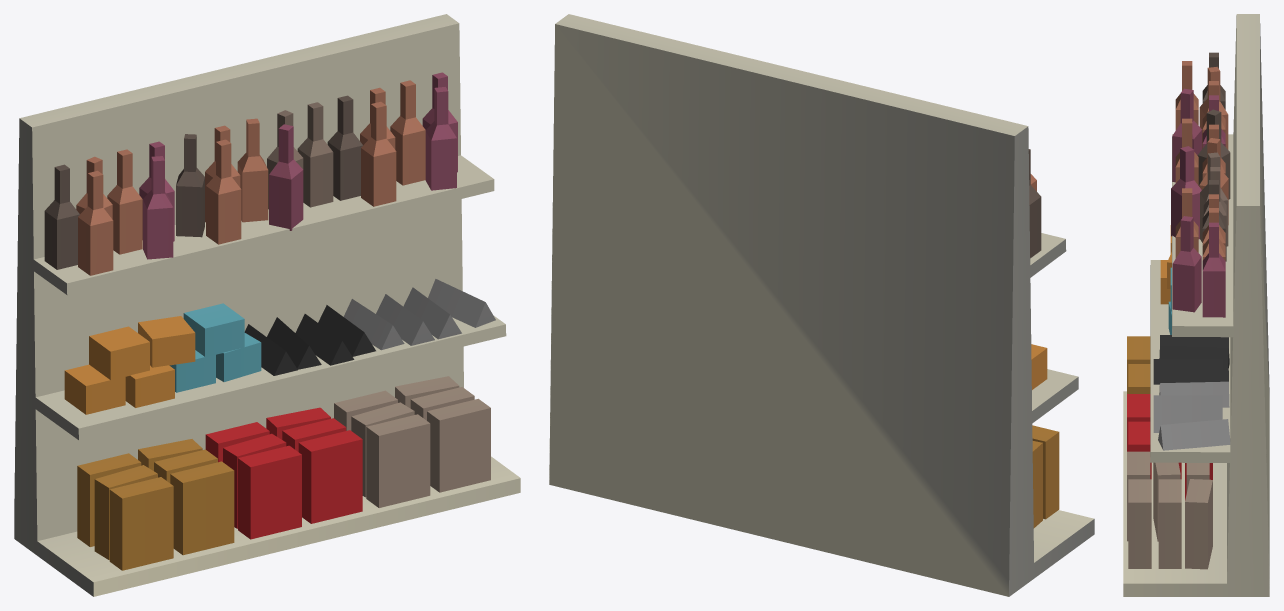
File: B03_etale_04.fbx
3 renders of one model, left to right at view 1: azimuth 30°, elevation 25°; view 2: azimuth 150°, elevation 25°; view 3: azimuth 270°, elevation 25°, orthographic. The views are drawn at different scales.
Visible parts, largest first — view 1: B03_etale_04; view 2: B03_etale_04; view 3: B03_etale_04.
Boxes of the visible parts, left/top/right/bottom form: B03_etale_04: left=14, top=14, right=520, bottom=596; B03_etale_04: left=549, top=14, right=1094, bottom=596; B03_etale_04: left=1123, top=14, right=1269, bottom=596.
Bounding box in the file's own units: 309 × 293 × 99.41.
